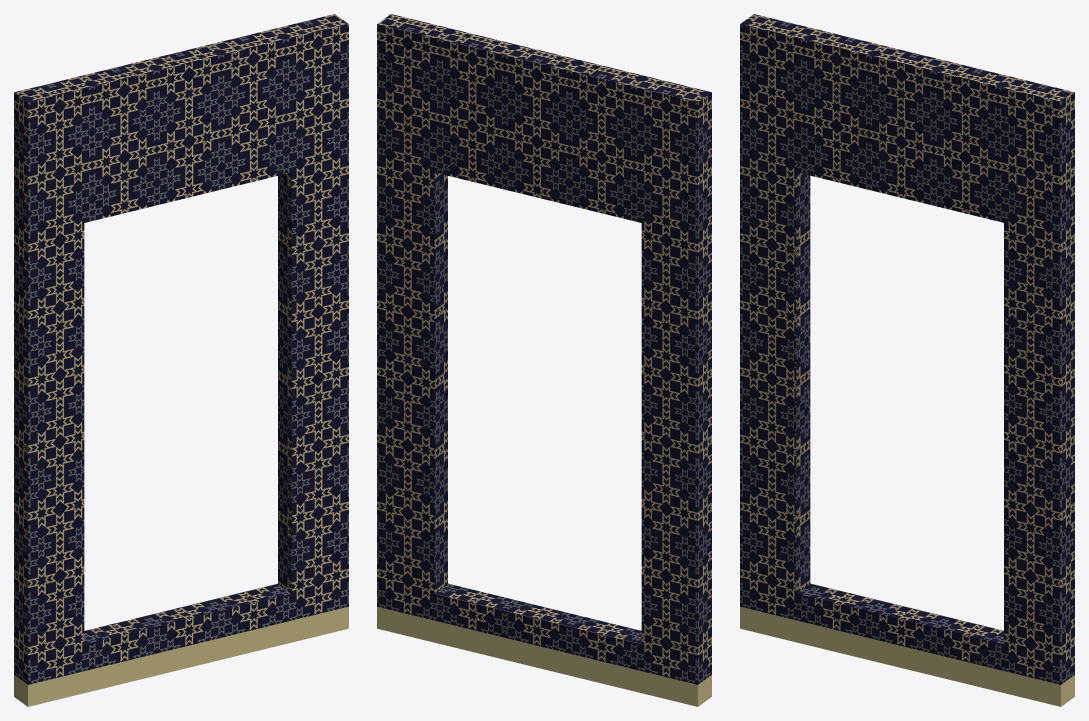
The model's file is ARC0210048.fbx.
3 renders of one model, left to right at view 1: azimuth 30°, elevation 25°; view 2: azimuth 150°, elevation 25°; view 3: azimuth 330°, elevation 25°, orthographic.
Visible parts, largest first — view 1: smARC0210048; view 2: smARC0210048; view 3: smARC0210048.
Boxes of the visible parts, x1,y1,x2,y2 form: smARC0210048: [14, 14, 348, 706]; smARC0210048: [377, 14, 711, 706]; smARC0210048: [740, 14, 1074, 706].
Bounding box in the file's own units: 182 × 328 × 13.67.
Materials: 1 (1 with a texture image).
